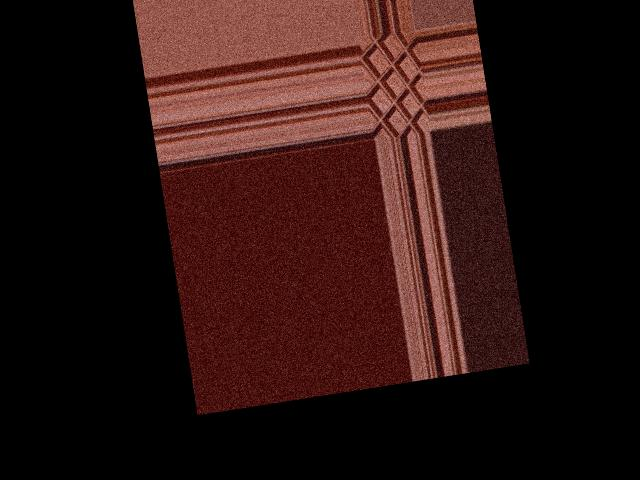chocolate: (357, 30, 428, 138)
